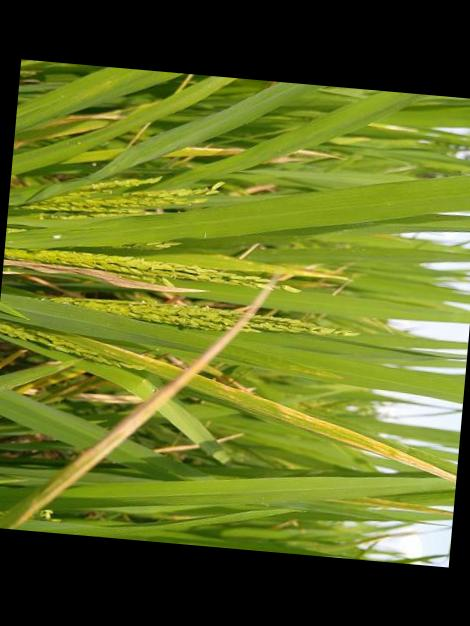Leaf Blight: (46, 283, 272, 492), (184, 370, 457, 482)
